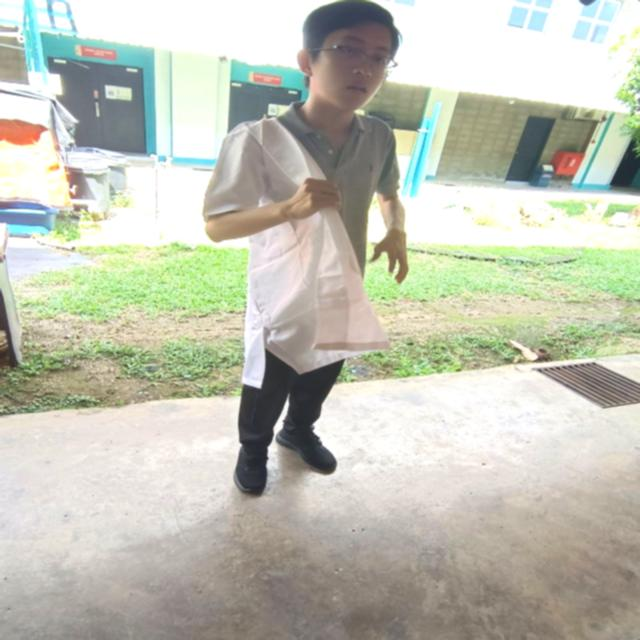person_without_labcoat: (203, 0, 407, 492)
